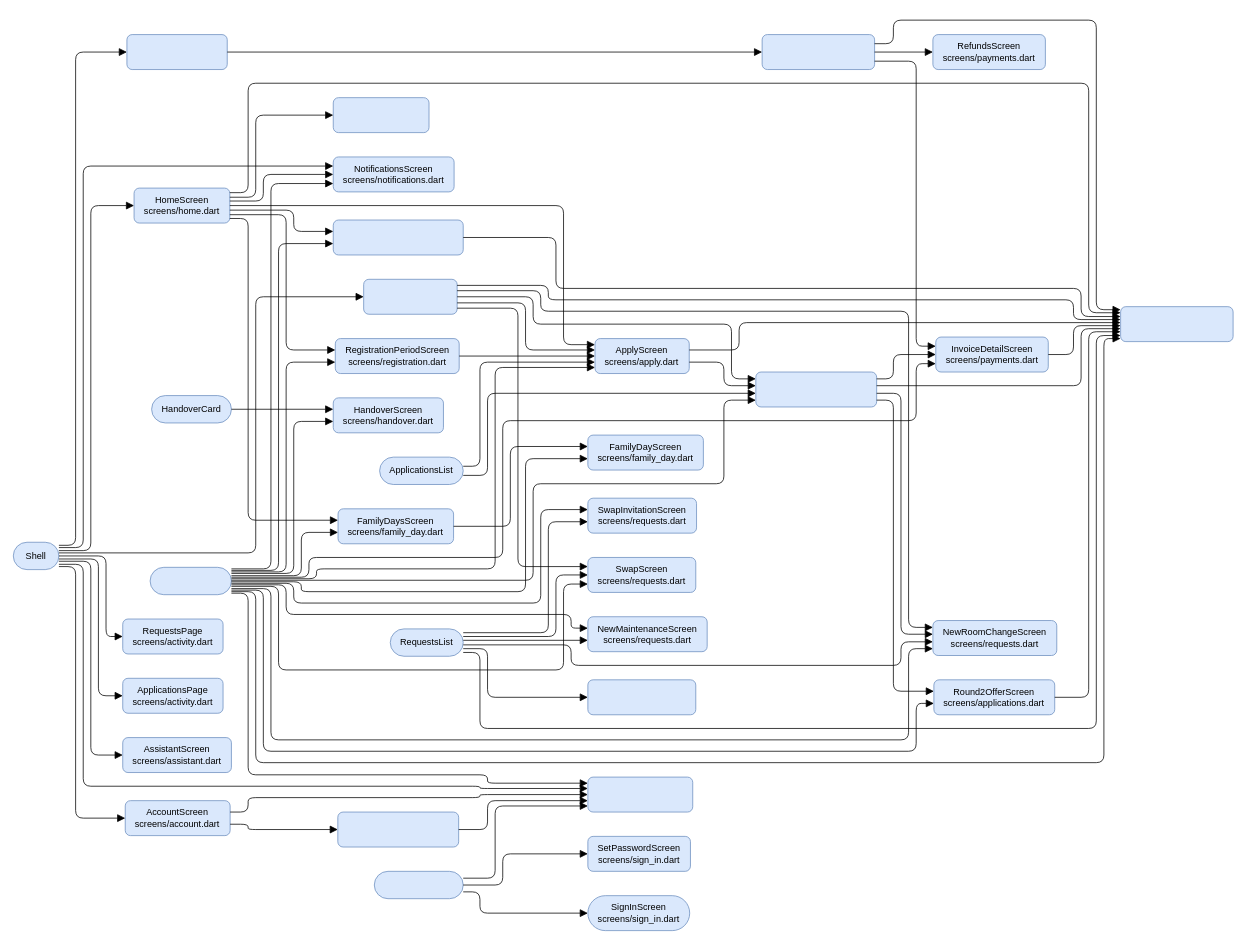
Image size: 1246x944. Some labels were removed from this diagram. The shapes that lost their labels are listed below. From the top down, each one's box as (x1, y1, x2, y2) in pixels, then its label:
(126, 34, 227, 70): PaymentsPage screens/activity.dart
(761, 34, 875, 70): PaymentsScreen screens/payments.dart
(332, 97, 429, 133): BoardScreen screens/home.dart
(332, 219, 463, 255): RoommateInvitationScreen screens/applications.dart
(363, 279, 457, 314): RoomScreen screens/room.dart
(1120, 306, 1233, 342): InvoiceScreen screens/payments.dart
(755, 371, 877, 407): ApplicationScreen screens/applications.dart
(149, 567, 231, 595): Notification link
(587, 679, 696, 715): MaintenanceScreen screens/requests.dart
(587, 776, 693, 812): VerificationScreen screens/account.dart
(337, 811, 459, 847): ChangePasswordScreen screens/account.dart
(374, 871, 463, 899): CampusStayApp
